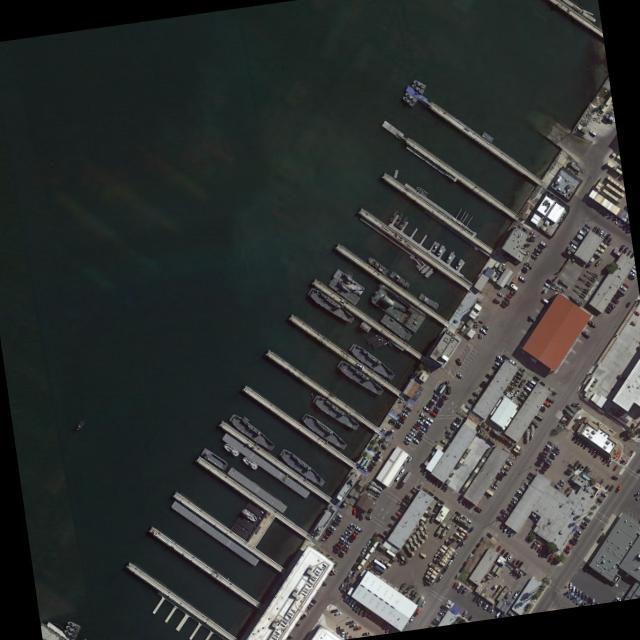large-vehicle: (399, 471, 412, 486), (528, 355, 538, 364), (523, 385, 533, 393), (594, 258, 602, 267), (517, 379, 525, 388), (525, 382, 534, 389), (528, 379, 536, 386)
ship: (369, 284, 427, 333), (277, 447, 327, 489), (227, 412, 277, 454), (306, 286, 357, 327), (348, 341, 397, 383), (299, 412, 349, 453), (311, 393, 360, 433), (335, 359, 385, 398), (378, 313, 413, 343), (327, 278, 361, 306), (332, 268, 366, 296), (199, 447, 230, 472), (312, 506, 336, 536), (335, 474, 358, 503), (366, 256, 389, 276), (417, 292, 440, 311), (388, 271, 410, 289), (222, 443, 240, 458), (240, 508, 258, 523), (365, 332, 384, 346), (371, 336, 390, 350), (241, 456, 258, 471), (569, 162, 585, 175), (417, 524, 429, 541), (439, 524, 452, 539), (414, 185, 429, 198), (406, 536, 418, 552), (414, 529, 426, 545), (435, 521, 447, 537), (412, 79, 428, 91), (569, 294, 583, 307), (403, 542, 415, 557), (401, 96, 416, 108), (403, 92, 418, 104), (410, 533, 421, 549), (480, 131, 494, 143), (388, 209, 399, 224), (66, 621, 82, 631), (397, 216, 409, 229), (74, 419, 86, 432), (358, 321, 371, 333), (411, 84, 425, 95), (65, 625, 79, 636), (393, 213, 404, 226), (435, 244, 446, 257), (454, 257, 465, 270), (63, 630, 77, 640), (430, 241, 441, 253), (604, 113, 615, 124), (445, 251, 455, 263), (502, 590, 513, 600), (529, 425, 535, 439), (524, 428, 529, 444)
small-vehicle: (505, 458, 514, 467), (616, 244, 625, 253), (613, 484, 622, 493), (354, 555, 363, 564), (489, 483, 498, 491), (479, 327, 488, 335), (508, 359, 517, 367), (581, 330, 590, 338), (540, 297, 549, 305), (588, 129, 597, 137), (435, 574, 443, 583), (456, 585, 464, 594), (589, 448, 597, 457), (592, 450, 600, 459), (575, 438, 583, 447), (512, 590, 520, 599), (547, 553, 555, 562), (586, 321, 596, 328), (516, 366, 526, 373), (518, 275, 526, 283), (586, 446, 594, 454), (580, 519, 588, 527), (531, 375, 539, 383), (501, 354, 509, 362), (404, 494, 412, 502), (402, 497, 410, 505), (605, 460, 613, 468), (350, 564, 358, 572), (352, 602, 360, 610), (493, 361, 502, 368), (542, 401, 551, 408), (523, 262, 532, 269), (471, 391, 480, 398), (455, 357, 462, 366), (577, 230, 586, 237), (607, 302, 616, 309), (605, 214, 614, 221), (620, 247, 629, 254), (419, 600, 426, 609), (600, 455, 607, 464), (480, 381, 489, 388), (466, 399, 475, 406), (408, 590, 415, 599), (461, 609, 468, 618), (429, 513, 435, 523), (344, 621, 354, 627), (495, 354, 503, 361), (496, 291, 504, 298), (543, 282, 551, 289), (522, 265, 530, 272), (534, 247, 542, 254), (402, 439, 410, 446), (404, 436, 412, 443), (405, 433, 413, 440), (411, 424, 419, 431), (416, 418, 423, 426), (451, 422, 459, 429), (454, 372, 462, 379), (440, 439, 448, 446), (539, 241, 547, 248), (478, 536, 485, 544), (466, 553, 473, 561), (452, 573, 459, 581), (619, 284, 626, 292), (581, 225, 589, 232), (602, 234, 610, 241), (451, 582, 458, 590), (458, 496, 465, 504), (446, 559, 453, 567), (450, 552, 457, 560), (394, 474, 401, 482), (400, 501, 408, 508), (413, 609, 420, 617), (347, 598, 354, 606), (338, 583, 345, 591), (365, 539, 372, 547), (384, 626, 391, 634), (573, 531, 580, 539), (603, 457, 610, 465), (582, 517, 590, 524), (564, 544, 572, 551), (562, 548, 570, 555), (536, 546, 543, 554), (617, 288, 625, 295), (342, 594, 349, 602), (581, 442, 588, 450), (502, 510, 510, 517), (509, 499, 517, 506), (525, 475, 533, 482), (539, 466, 547, 473), (537, 455, 545, 462), (539, 452, 547, 459), (485, 374, 493, 381), (538, 381, 546, 388), (614, 291, 622, 298), (610, 298, 618, 305), (334, 516, 342, 523), (332, 519, 340, 526), (330, 522, 338, 529), (324, 531, 332, 538), (348, 535, 356, 542), (345, 538, 353, 545), (380, 443, 387, 451), (411, 592, 418, 600), (397, 509, 405, 516), (460, 588, 467, 596), (632, 491, 640, 498), (467, 614, 474, 622), (476, 599, 483, 607), (508, 530, 516, 537), (529, 542, 537, 549), (566, 467, 574, 474), (518, 486, 526, 493), (414, 434, 422, 441), (436, 399, 444, 406), (355, 605, 363, 612), (358, 607, 365, 615), (501, 299, 510, 305), (610, 217, 619, 223), (562, 591, 571, 597), (565, 593, 574, 599), (329, 609, 338, 615), (351, 627, 361, 632), (464, 403, 471, 410), (429, 410, 436, 417), (408, 430, 415, 437), (410, 427, 417, 434), (413, 437, 420, 444), (423, 406, 430, 413), (597, 230, 604, 237), (594, 227, 601, 234), (600, 232, 607, 239), (624, 250, 631, 257), (606, 305, 613, 312), (462, 534, 469, 541), (467, 527, 474, 534), (465, 518, 472, 525), (398, 468, 405, 475), (406, 457, 413, 464), (351, 532, 358, 539), (579, 523, 586, 530), (603, 483, 610, 490), (575, 463, 582, 470), (570, 435, 577, 442), (499, 303, 506, 310), (479, 384, 486, 391), (521, 390, 528, 397), (492, 298, 499, 305), (440, 605, 447, 612), (474, 506, 481, 513), (395, 512, 402, 519), (533, 544, 540, 551), (554, 483, 561, 490), (557, 481, 564, 488), (559, 478, 566, 485), (512, 496, 519, 503), (473, 597, 480, 604), (474, 542, 481, 549), (470, 548, 477, 555), (457, 566, 464, 573), (502, 552, 509, 559), (397, 418, 404, 425), (430, 395, 437, 402), (435, 402, 442, 409), (432, 495, 439, 502), (342, 577, 349, 584), (455, 417, 463, 423), (426, 417, 434, 423), (444, 434, 452, 440), (569, 244, 577, 250), (614, 219, 622, 225), (618, 222, 626, 228), (622, 225, 630, 231), (603, 308, 611, 314), (328, 525, 336, 531), (354, 526, 362, 532), (346, 570, 352, 578), (360, 547, 366, 555), (571, 536, 579, 542), (579, 440, 585, 448), (422, 468, 428, 476), (498, 517, 506, 523), (537, 470, 545, 476), (491, 366, 499, 372), (404, 406, 412, 412), (368, 462, 374, 470), (544, 460, 552, 466), (495, 545, 501, 553), (514, 559, 520, 567), (517, 561, 523, 569), (426, 401, 434, 407), (438, 397, 446, 403), (426, 491, 434, 497), (572, 597, 580, 603), (349, 623, 358, 628), (568, 595, 577, 600), (482, 324, 489, 330), (503, 296, 510, 302), (540, 404, 547, 410), (520, 350, 527, 356), (632, 310, 639, 316), (433, 406, 440, 412), (418, 429, 425, 435), (450, 425, 457, 431), (530, 254, 537, 260), (399, 415, 406, 421), (591, 226, 597, 233), (605, 238, 612, 244), (395, 421, 402, 427), (458, 541, 464, 548), (408, 616, 414, 623), (412, 486, 419, 492), (421, 487, 428, 493), (350, 600, 356, 607), (339, 549, 346, 555), (341, 547, 348, 553), (343, 544, 350, 550), (349, 523, 356, 529), (342, 533, 348, 540), (365, 514, 372, 520), (455, 583, 461, 590), (575, 529, 582, 535), (345, 597, 352, 603), (403, 409, 410, 415), (467, 503, 473, 510), (500, 514, 507, 520), (573, 437, 579, 444), (541, 450, 548, 456), (573, 460, 579, 467), (513, 390, 519, 397), (563, 471, 570, 477), (485, 533, 492, 539), (627, 275, 634, 281), (613, 295, 619, 302), (624, 302, 630, 309), (545, 552, 551, 559), (371, 456, 377, 463), (393, 424, 400, 430), (376, 449, 382, 456), (374, 453, 380, 460), (370, 460, 376, 467), (366, 466, 372, 473), (411, 489, 418, 495), (399, 506, 406, 512), (442, 486, 448, 493), (598, 478, 604, 485), (584, 468, 590, 475), (600, 491, 607, 497), (595, 498, 602, 504), (546, 457, 553, 463), (553, 445, 560, 451), (550, 451, 557, 457), (482, 604, 488, 611), (505, 528, 512, 534), (499, 549, 505, 556), (510, 559, 517, 565), (485, 605, 491, 612), (425, 404, 432, 410), (437, 611, 444, 617), (327, 528, 334, 534), (628, 272, 636, 277), (610, 476, 618, 481), (336, 626, 341, 634), (502, 527, 510, 532), (516, 490, 524, 495), (580, 592, 585, 600), (420, 426, 426, 432), (630, 268, 636, 274), (323, 534, 329, 540), (347, 525, 353, 531), (353, 530, 359, 536), (344, 531, 350, 537), (461, 499, 467, 505), (464, 501, 470, 507), (578, 465, 584, 471), (460, 515, 466, 521), (454, 511, 460, 517), (545, 444, 551, 450), (480, 602, 486, 608), (461, 561, 467, 567), (440, 609, 446, 615), (471, 596, 477, 602), (432, 620, 438, 626), (505, 293, 512, 298), (424, 421, 431, 426), (431, 409, 438, 414), (429, 399, 436, 404), (401, 413, 408, 418), (336, 514, 343, 519), (344, 541, 351, 546), (345, 529, 352, 534), (633, 496, 640, 501), (437, 500, 444, 505), (489, 607, 494, 614), (495, 611, 500, 618), (432, 393, 439, 398), (583, 594, 588, 601), (526, 238, 534, 242), (359, 513, 363, 521), (352, 508, 356, 516), (587, 597, 591, 605), (568, 582, 572, 590), (571, 585, 575, 593), (361, 632, 369, 636), (622, 283, 628, 288), (506, 555, 512, 560), (334, 546, 340, 551), (336, 543, 342, 548), (338, 540, 343, 546), (435, 617, 440, 623), (334, 612, 341, 616), (340, 630, 344, 637), (577, 590, 581, 597), (340, 537, 345, 542), (582, 467, 587, 472), (530, 234, 536, 238), (575, 588, 578, 595), (524, 244, 530, 247), (638, 517, 640, 525)
